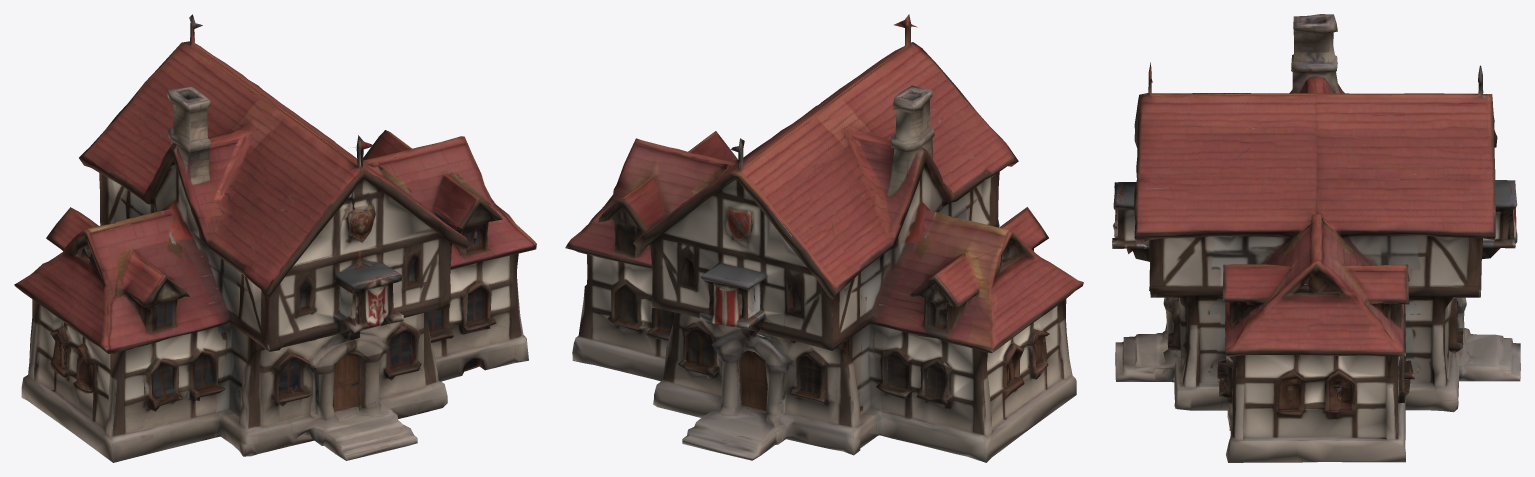
The model's file is Create_a_central_TOWN_0809095307_texture.fbx.
3 views of the same model, side by side, from view 1: azimuth 30°, elevation 25°; view 2: azimuth 150°, elevation 25°; view 3: azimuth 270°, elevation 25° (orthographic).
Parts seen in each view (by area): view 1: Mesh1.0; view 2: Mesh1.0; view 3: Mesh1.0.
Boxes of the visible parts, box(x1,y1,x2,y2) form: Mesh1.0: box(14, 14, 536, 462); Mesh1.0: box(565, 14, 1083, 462); Mesh1.0: box(1112, 14, 1520, 462).
Size of the model in its own units: 200 by 136 by 167.
1 material, 1 textured.
